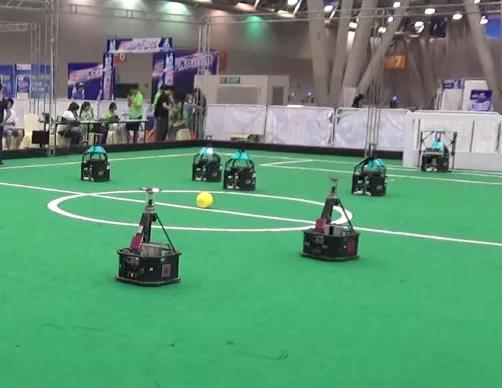robot: (111, 178, 183, 285), (296, 173, 361, 261), (344, 141, 392, 199), (220, 139, 262, 192), (73, 133, 116, 183)
